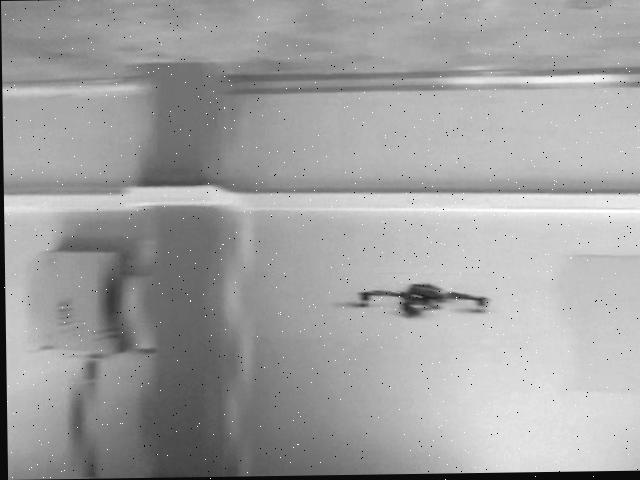drone: (338, 281, 493, 326)
